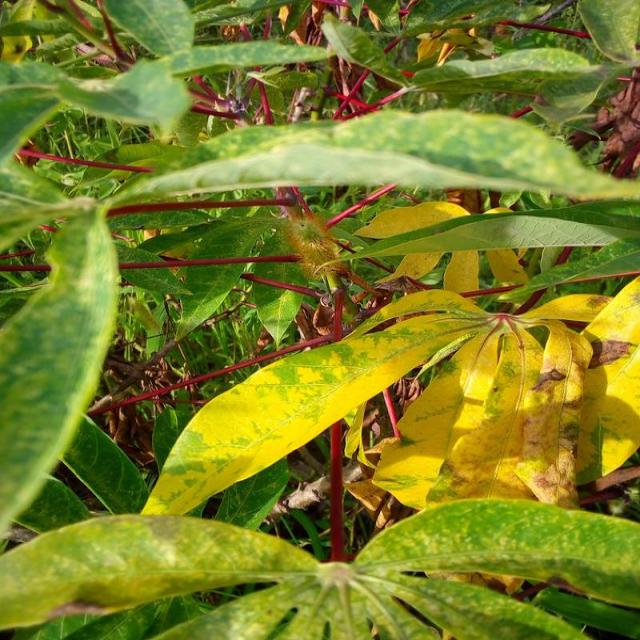cassava leaf: (139, 287, 495, 516), (98, 106, 638, 212), (0, 197, 121, 538)
